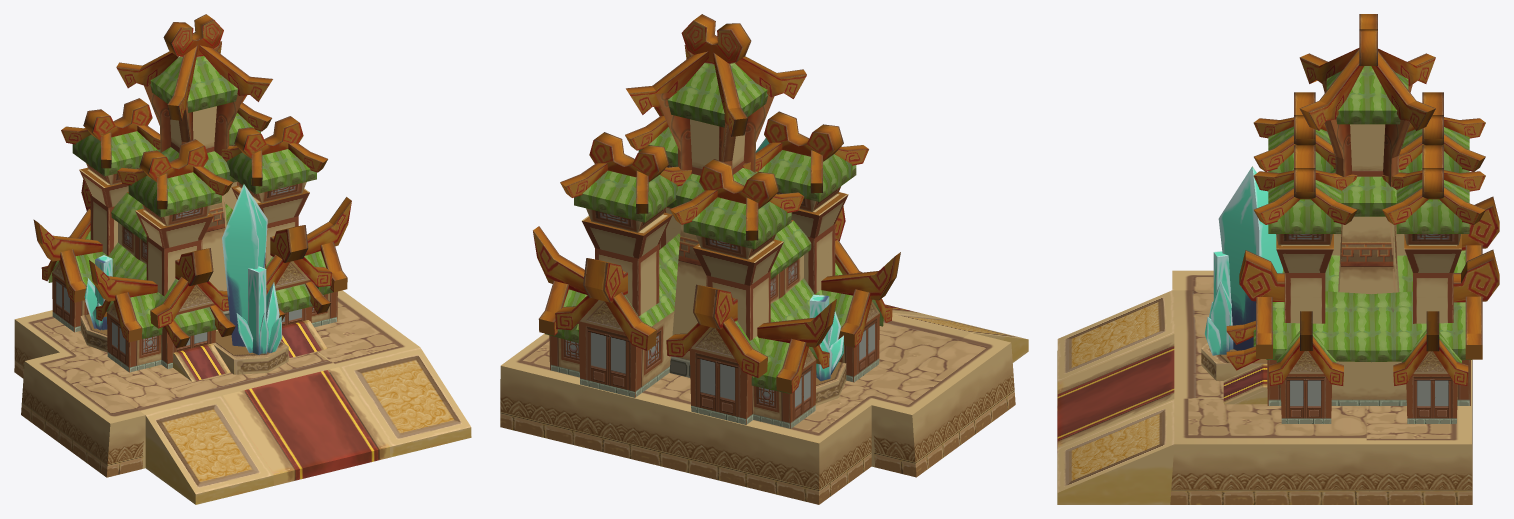
File: Crystal.FBX
3 renders of one model, left to right at view 1: azimuth 30°, elevation 25°; view 2: azimuth 150°, elevation 25°; view 3: azimuth 270°, elevation 25°, orthographic. The views are drawn at different scales.
Visible parts, largest first — view 1: Crystal; view 2: Crystal; view 3: Crystal.
Boxes of the visible parts, x1,y1,x2,y2 form: Crystal: (14,14,471,504); Crystal: (500,14,1028,504); Crystal: (1057,14,1499,504).
Size of the model in its own units: 60.88 by 64.7 by 65.05.
